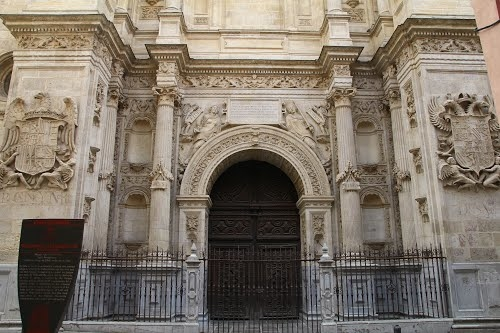arco-medio-punto: (201, 142, 312, 213)
